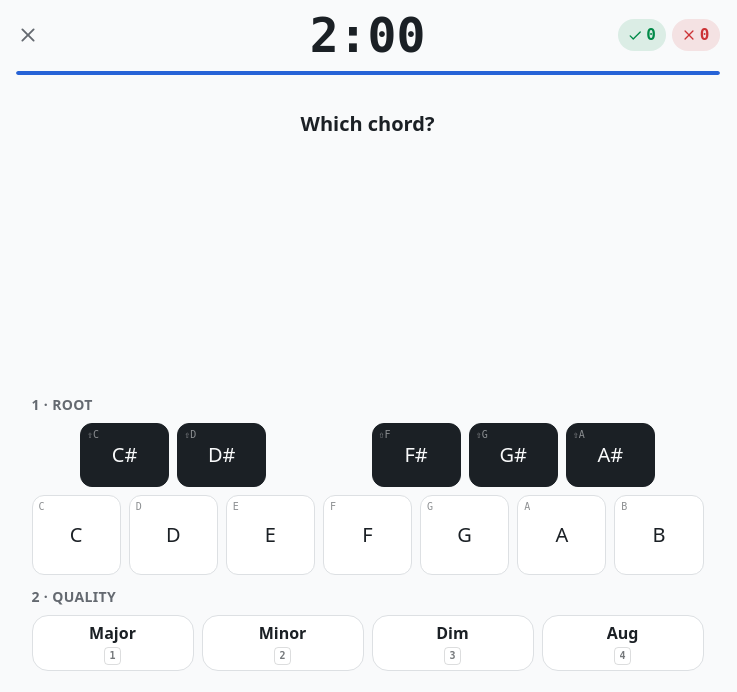
Chords RunPhase, by name › names the pick on a miss and plays it before the chord
Click the button "Major 1". click: (112, 643)
box: top-left (32, 615), bottom-right (194, 671)
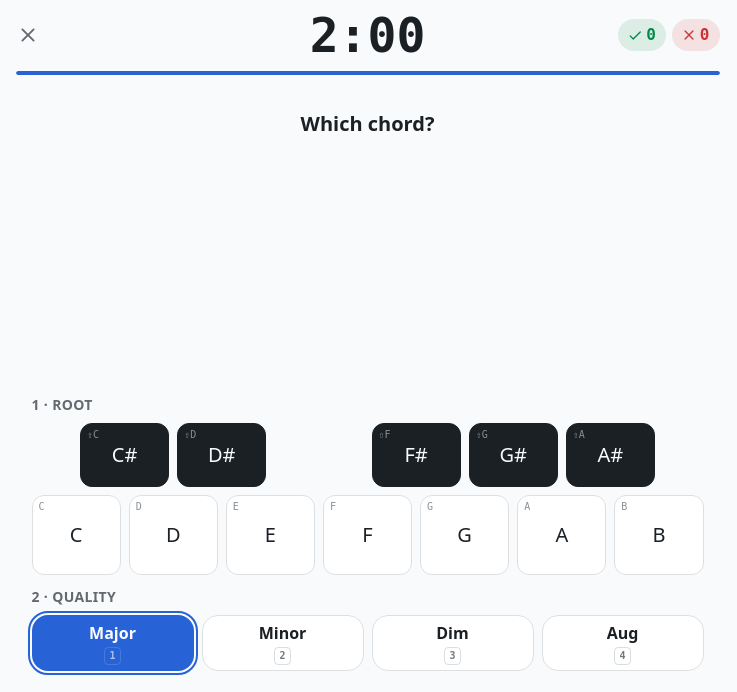
Click the button named "Cc". click: (76, 535)
box: top-left (32, 495), bottom-right (121, 575)
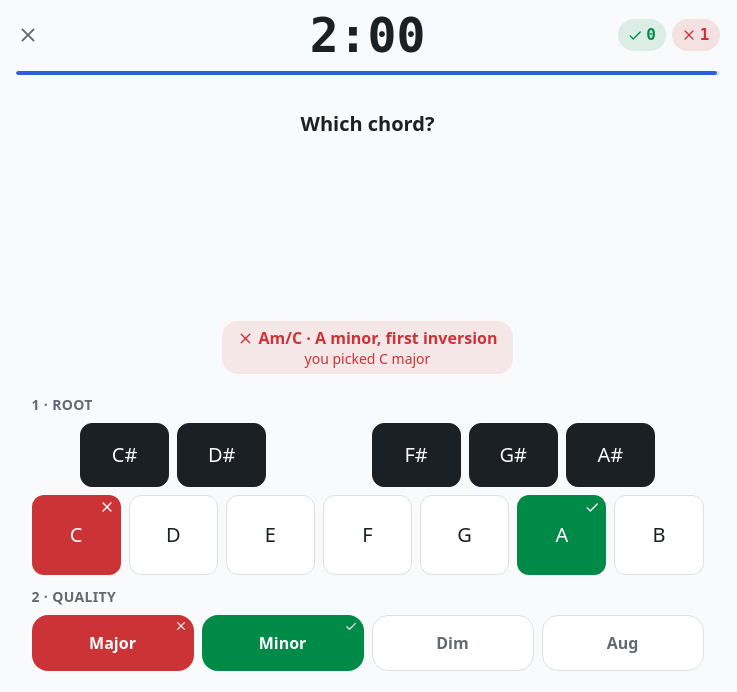
Result: the message shows "you picked C major" at top-left (305, 349), bottom-right (430, 368)
